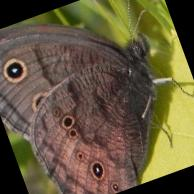butterfly: (0, 24, 157, 194)
